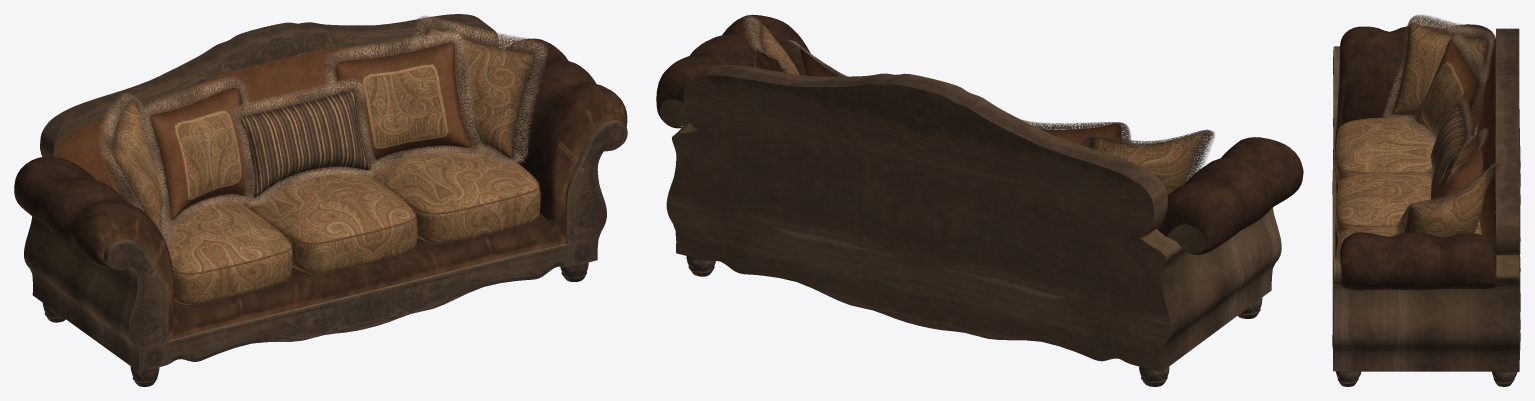
File: SheenWoodLeatherSofa.glb
3 renders of one model, left to right at view 1: azimuth 30°, elevation 25°; view 2: azimuth 150°, elevation 25°; view 3: azimuth 270°, elevation 25°, orthographic. The views are drawn at different scales.
Parts seen in each view (by area): view 1: Frame, Paisley, Fringe, Brown, Stripes, Frame_Fabric; view 2: Frame, Paisley, Fringe, Brown; view 3: Frame, Paisley, Fringe, Brown, Frame_Fabric, Stripes.
Boxes of the visible parts, x1,y1,x2,y2 form: Frame: (14, 14, 627, 386); Paisley: (107, 27, 540, 304); Fringe: (98, 16, 547, 246); Brown: (150, 42, 539, 274); Stripes: (174, 64, 448, 199); Frame_Fabric: (57, 34, 494, 189); Frame: (656, 14, 1303, 386); Paisley: (754, 23, 1204, 194); Fringe: (743, 15, 1214, 182); Brown: (800, 46, 1121, 147); Frame: (1332, 24, 1520, 386); Paisley: (1335, 23, 1487, 257); Fringe: (1382, 14, 1499, 235); Brown: (1336, 40, 1483, 257); Frame_Fabric: (1477, 39, 1495, 245); Stripes: (1422, 61, 1472, 198).
Size of the model in its own units: 2.73 by 1.12 by 0.9232.
Materials: 6 (6 with a texture image).
